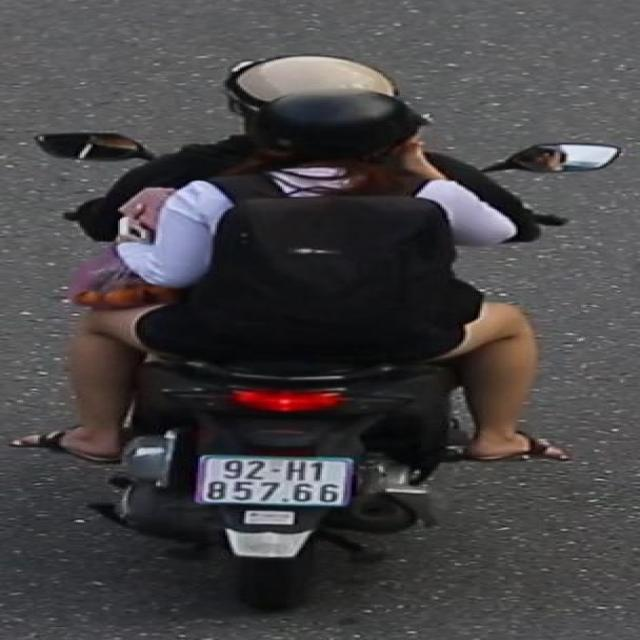LP: (190, 452, 359, 513)
helmet: (240, 89, 442, 198), (222, 52, 414, 108)
